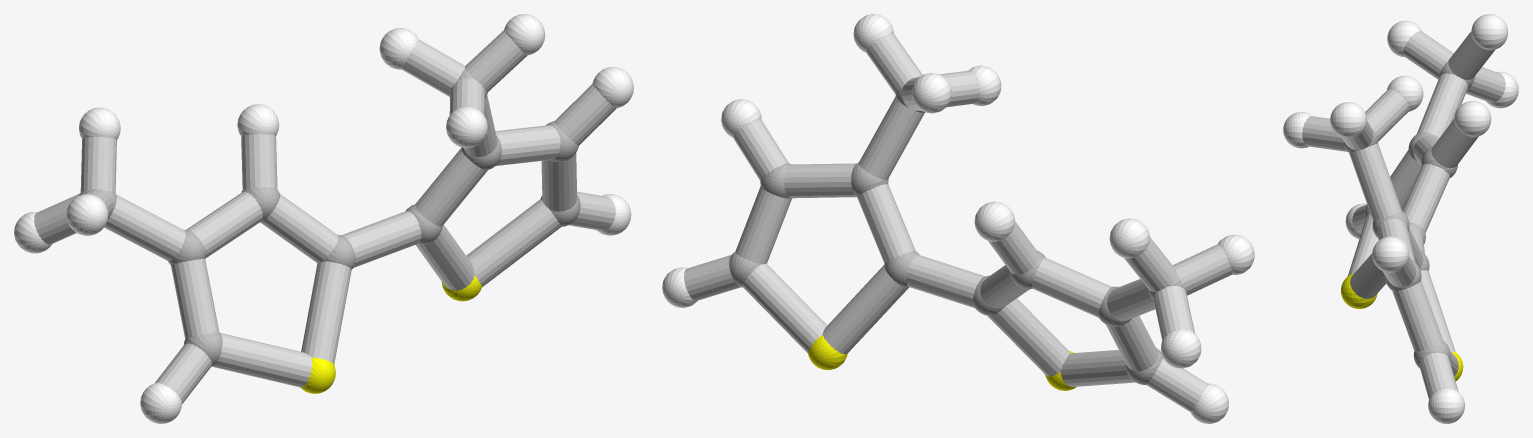
Rendered from color.glb.
The picture shows the model from 3 angles, left to right: view 1: azimuth 30°, elevation 25°; view 2: azimuth 150°, elevation 25°; view 3: azimuth 270°, elevation 25°; orthographic projection. The views are drawn at different scales.
Visible parts, largest first — view 1: grp7965, grp3621, grp1, grp7241; view 2: grp7965, grp3621, grp1, grp7241; view 3: grp7965, grp3621, grp1, grp7241.
Boxes of the visible parts, x1,y1,x2,y2 form: grp7965: [34, 30, 616, 404]; grp3621: [14, 14, 633, 423]; grp1: [79, 69, 580, 366]; grp7241: [300, 275, 481, 393]; grp7965: [684, 33, 1232, 411]; grp3621: [662, 14, 1254, 423]; grp1: [729, 75, 1183, 384]; grp7241: [808, 335, 1076, 390]; grp7965: [1302, 31, 1505, 399]; grp3621: [1283, 14, 1518, 423]; grp1: [1343, 60, 1475, 368]; grp7241: [1341, 273, 1463, 381].
Bounding box in the file's own units: 9.62 × 5.22 × 3.83.
